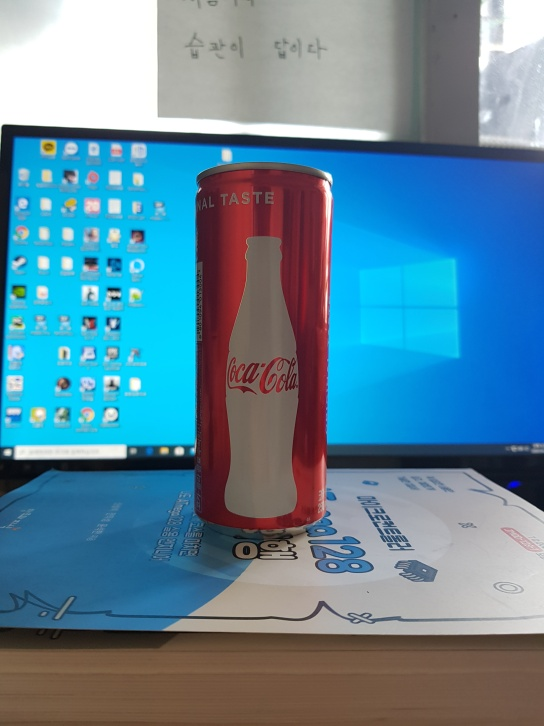Can: (191, 156, 336, 538)
